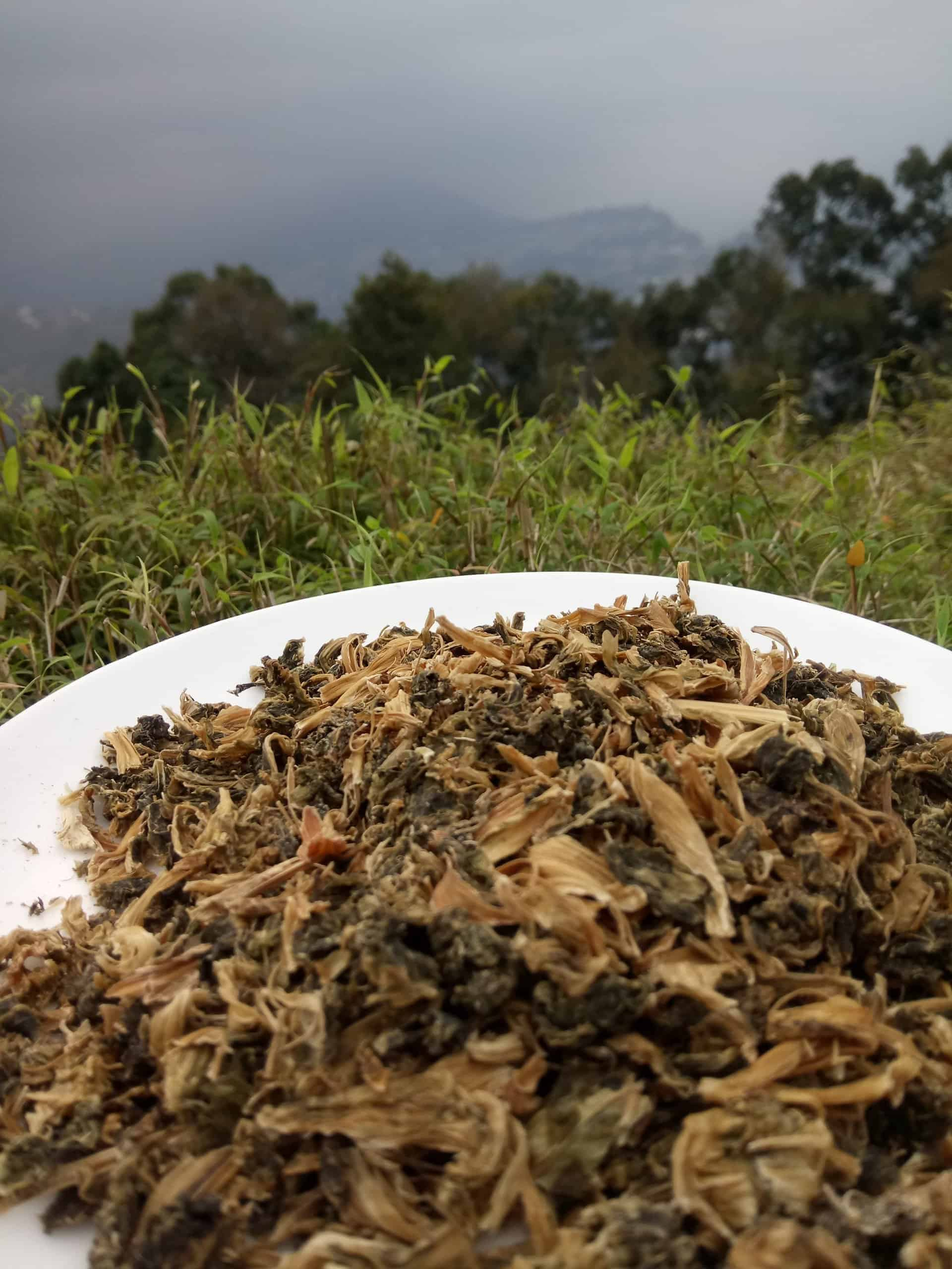gundruk: (55, 610, 917, 1247)
